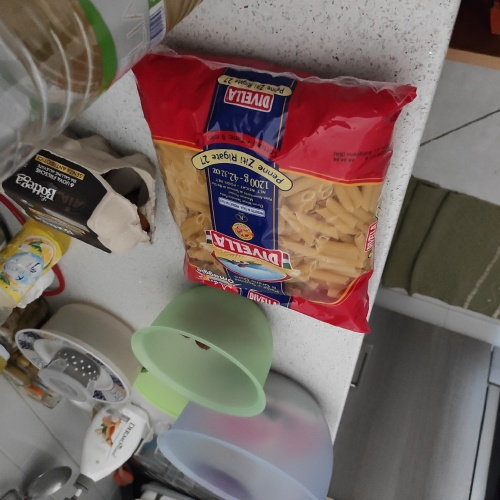pasta: (162, 73, 403, 300)
